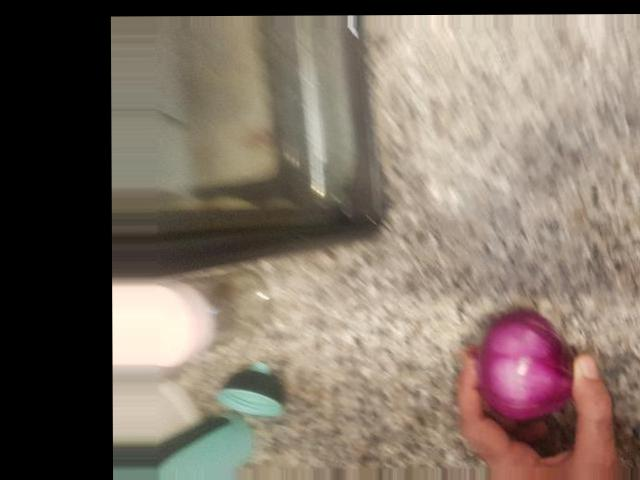onion: (439, 41, 566, 148)
